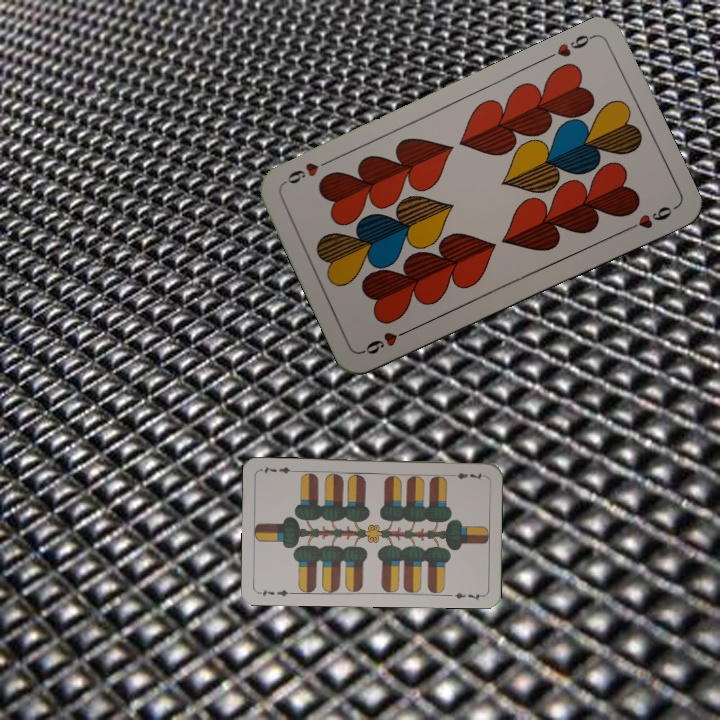E7: (446, 468, 486, 483), (256, 585, 296, 599)
H9: (359, 324, 414, 357), (542, 30, 598, 62)
